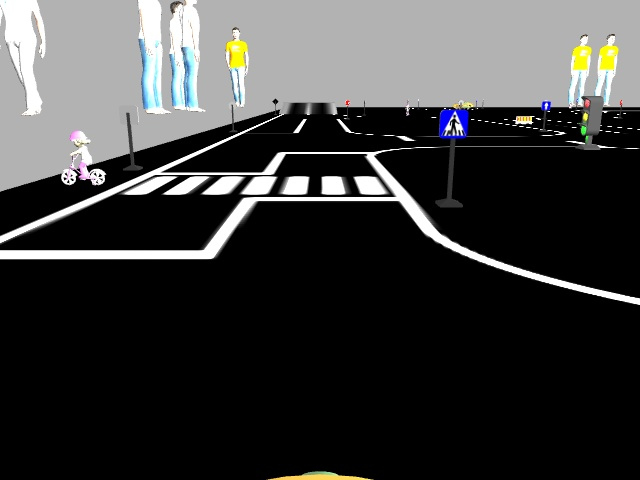Crosswalk: (439, 108, 468, 138)
Pedestrian: (58, 127, 106, 188)
TrafficLight: (577, 93, 603, 137)
